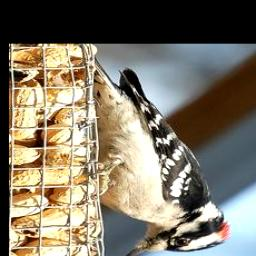Woodpecker: (85, 60, 233, 256)
